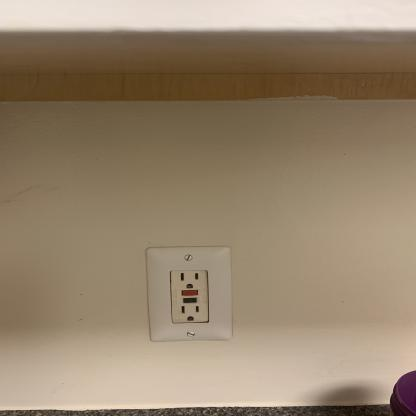OUTLET: (146, 246, 233, 340)
